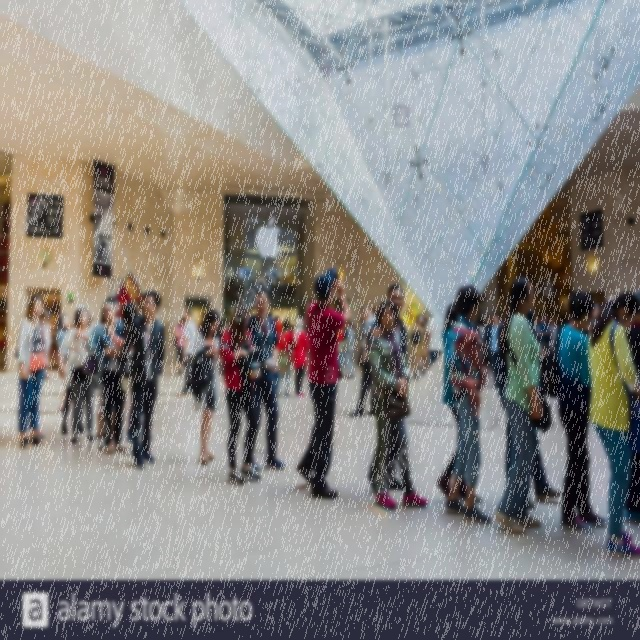pessoa: (492, 276, 552, 538), (584, 288, 640, 560), (294, 266, 352, 501), (366, 298, 429, 512), (554, 290, 609, 534), (496, 314, 563, 510), (443, 282, 494, 525), (436, 298, 484, 506), (117, 288, 167, 471), (365, 284, 408, 494), (240, 287, 288, 473), (216, 302, 263, 488), (56, 306, 102, 445), (85, 297, 124, 449), (14, 291, 51, 450), (616, 286, 640, 528), (95, 298, 130, 456), (190, 308, 222, 466), (94, 296, 128, 440), (106, 300, 140, 444), (124, 300, 155, 446), (348, 303, 380, 418), (282, 316, 310, 400), (176, 306, 198, 398), (274, 317, 296, 398), (482, 312, 502, 389), (56, 312, 70, 414), (410, 313, 430, 382), (524, 308, 548, 359), (424, 316, 446, 366), (272, 319, 284, 393), (342, 318, 356, 379), (173, 316, 187, 376), (538, 312, 552, 357), (213, 320, 224, 376), (482, 314, 493, 370), (472, 320, 485, 364), (418, 316, 428, 371), (34, 398, 46, 441), (547, 316, 559, 356), (589, 302, 604, 332), (336, 324, 345, 369), (477, 318, 485, 364), (555, 310, 573, 328), (43, 306, 54, 334), (532, 316, 542, 339), (358, 316, 366, 341), (282, 318, 294, 334), (368, 304, 381, 318), (14, 330, 20, 360), (265, 310, 280, 322), (16, 361, 21, 396), (86, 314, 97, 328), (16, 426, 24, 444), (69, 313, 77, 329), (483, 351, 491, 366), (581, 326, 590, 338), (198, 318, 205, 332), (488, 314, 496, 324), (218, 324, 226, 334), (348, 320, 356, 330), (302, 368, 308, 376), (342, 324, 346, 336), (498, 317, 506, 323), (368, 383, 372, 393), (94, 388, 98, 396)
